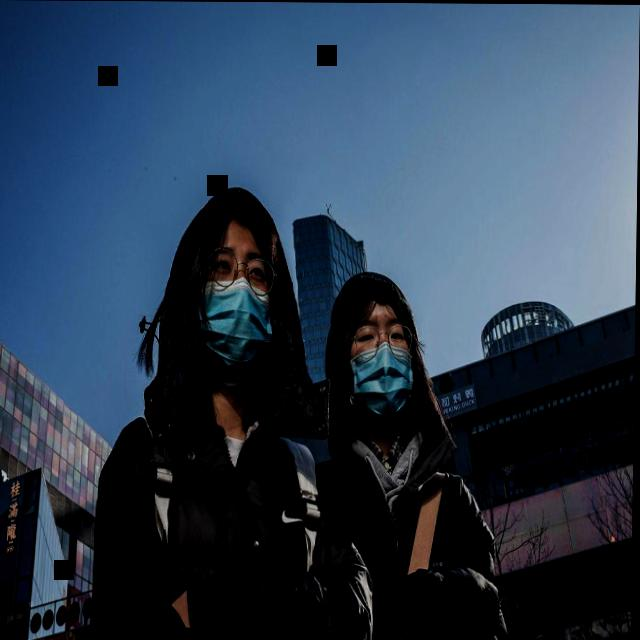Mask: (178, 183, 287, 390), (328, 264, 419, 426)
